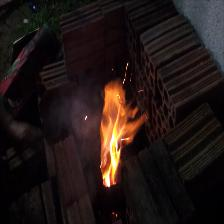fire: (75, 62, 174, 212)
